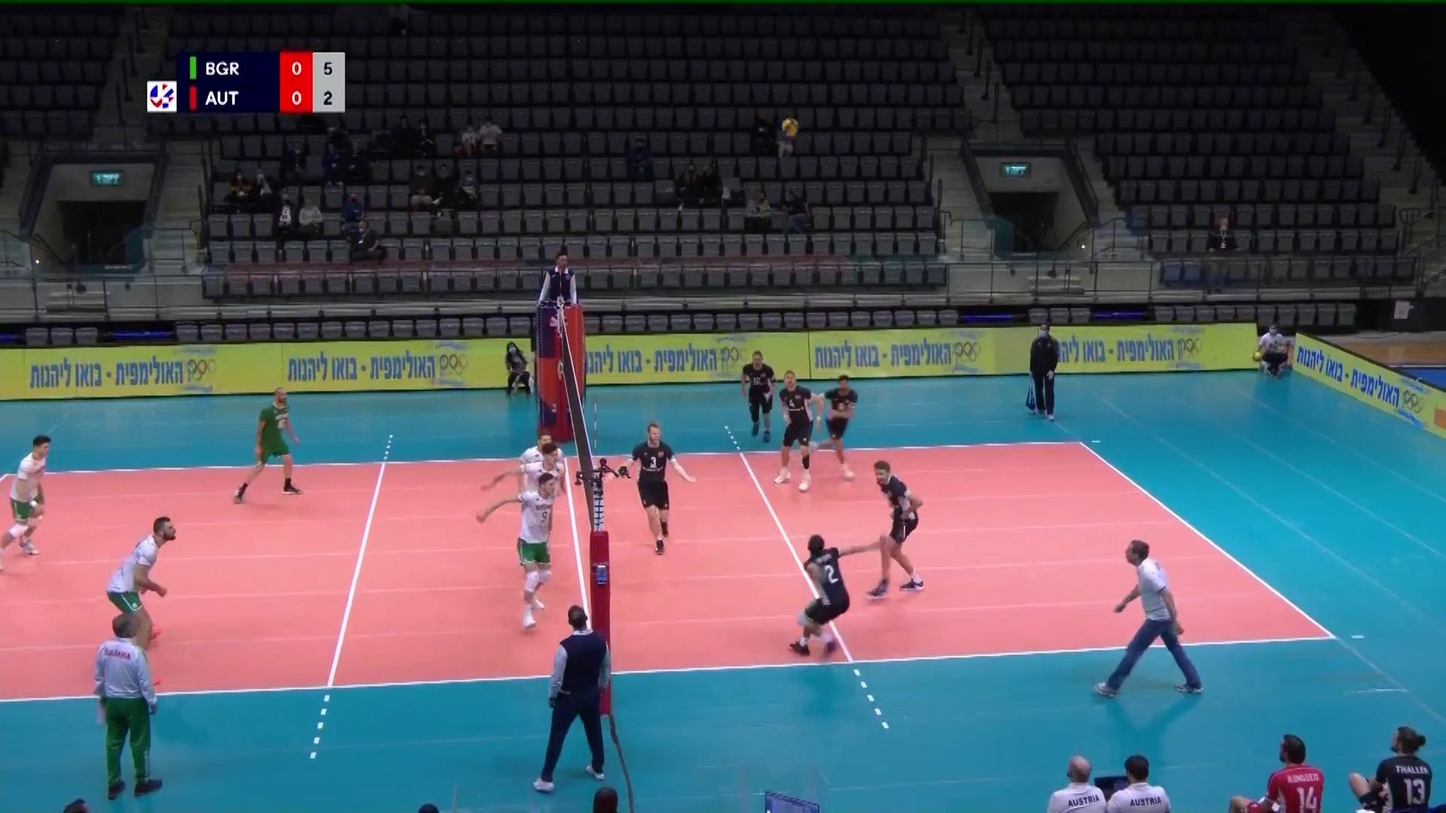ball: (781, 118, 799, 137)
